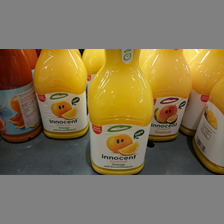juice: (88, 49, 155, 174), (33, 49, 88, 140), (143, 49, 192, 142), (1, 50, 42, 144)
